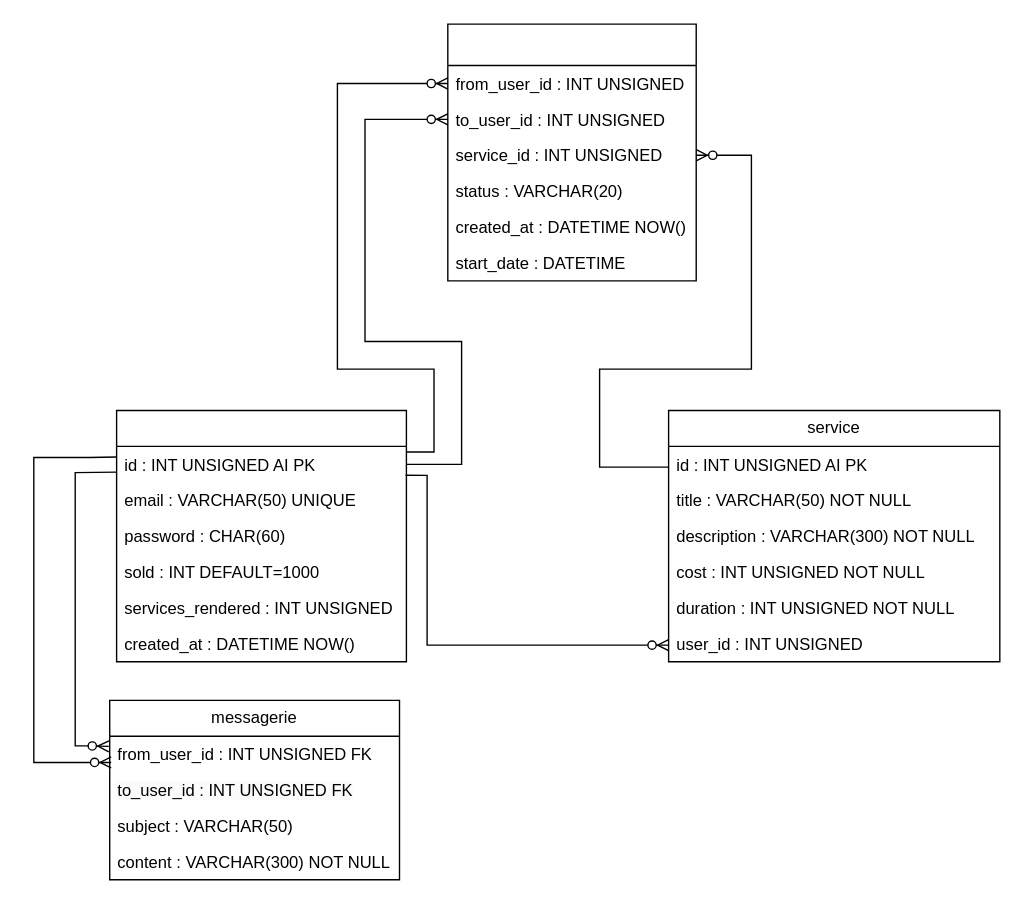
Image size: 1024x908. Some labels were removed from this diagram. The shapes that lost their labels are listed below. From the top down, each one's box as (x1, y1, x2, y2) in pixels, then its label:
(446, 23, 696, 281): transaction_status
(115, 409, 406, 662): user
